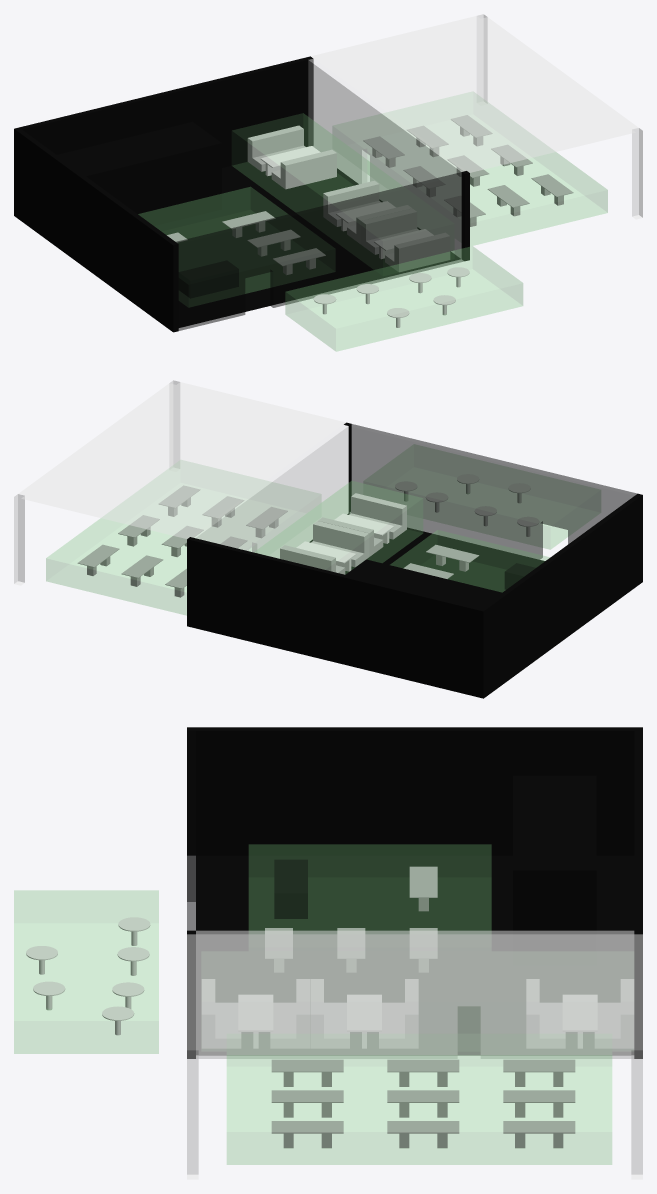
File: reservations.glb
3 renders of one model, top to bottom at view 1: azimuth 30°, elevation 25°; view 2: azimuth 150°, elevation 25°; view 3: azimuth 270°, elevation 25°, orthographic. The views are drawn at different scales.
Visible parts, largest first — view 1: Model, Group1, openair, outdoor, booth, indoor, Group5, Group11, Group3, Group6, Group9, Group_47_12 (+13 smaller); view 2: Model, Group1, openair, outdoor, booth, indoor, Group8, Group11, Group6, Group_47_10, Group10, Group7 (+8 smaller); view 3: Model, Group1, openair, outdoor, indoor, Group9, Group3, Group6, Group8, Group11, Group5, Group7 (+15 smaller).
Part boxes in pixels (<box>): Model: <box>14,56,469,332</box>; Group1: <box>311,14,642,219</box>; openair: <box>333,92,607,246</box>; outdoor: <box>285,246,522,351</box>; booth: <box>232,113,453,269</box>; indoor: <box>138,187,334,306</box>; Group5: <box>271,149,336,189</box>; Group11: <box>385,233,449,271</box>; Group3: <box>247,125,305,171</box>; Group6: <box>323,180,380,226</box>; Group9: <box>361,208,418,254</box>; Group_47_12: <box>222,211,275,237</box>; Model: <box>187,422,642,698</box>; Group1: <box>14,380,345,585</box>; openair: <box>46,460,320,615</box>; outdoor: <box>364,445,600,549</box>; booth: <box>254,481,422,574</box>; indoor: <box>390,530,549,592</box>; Group8: <box>311,521,369,567</box>; Group11: <box>349,493,406,539</box>; Group6: <box>280,545,345,574</box>; Group_47_10: <box>426,544,479,571</box>; Group10: <box>334,513,394,543</box>; Group7: <box>296,541,356,571</box>; Model: <box>187,727,642,1058</box>; Group1: <box>187,934,642,1179</box>; openair: <box>227,1034,611,1164</box>; outdoor: <box>14,890,158,1053</box>; indoor: <box>249,844,491,933</box>; Group9: <box>271,979,309,1047</box>; Group3: <box>595,979,633,1047</box>; Group6: <box>379,979,417,1047</box>; Group8: <box>311,979,349,1047</box>; Group11: <box>202,979,240,1047</box>; Group5: <box>527,979,564,1047</box>; Group7: <box>347,995,381,1047</box>.
Size of the model in its own units: 42.62 by 9.24 by 34.56.
Materials: 10 (2 with a texture image).
